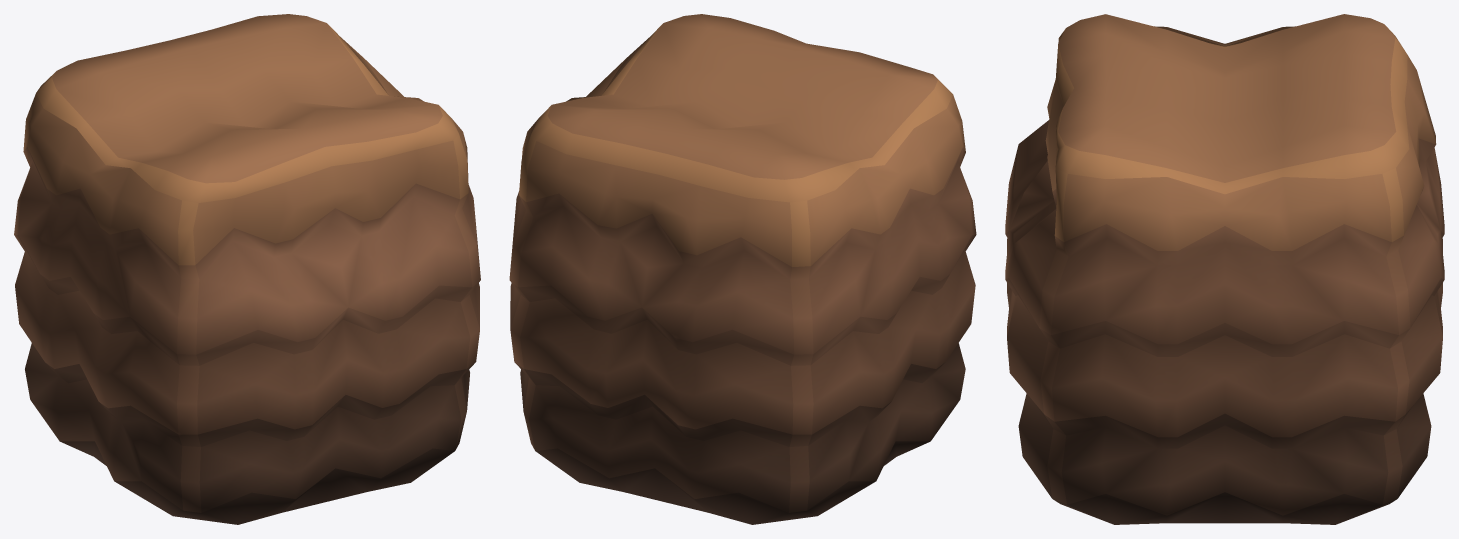
3 renders of one model, left to right at view 1: azimuth 30°, elevation 25°; view 2: azimuth 150°, elevation 25°; view 3: azimuth 270°, elevation 25°, orthographic. The views are drawn at different scales.
Visible parts, largest first — view 1: Spring_Cube5; view 2: Spring_Cube5; view 3: Spring_Cube5.
Part boxes in pixels (x1,y1,x2,y2): Spring_Cube5: (14, 14, 480, 524); Spring_Cube5: (509, 14, 976, 524); Spring_Cube5: (1005, 14, 1444, 524).
Size of the model in its own units: 98.33 by 98.22 by 98.95.
